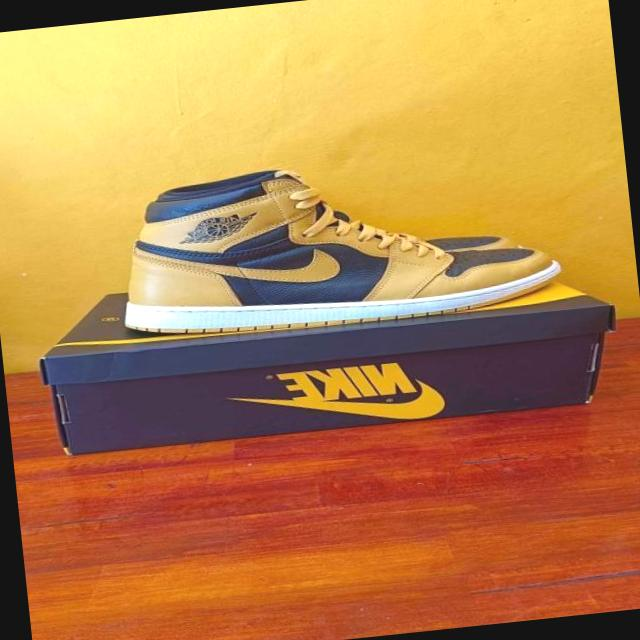nike_original_jordan: (108, 144, 568, 351)
